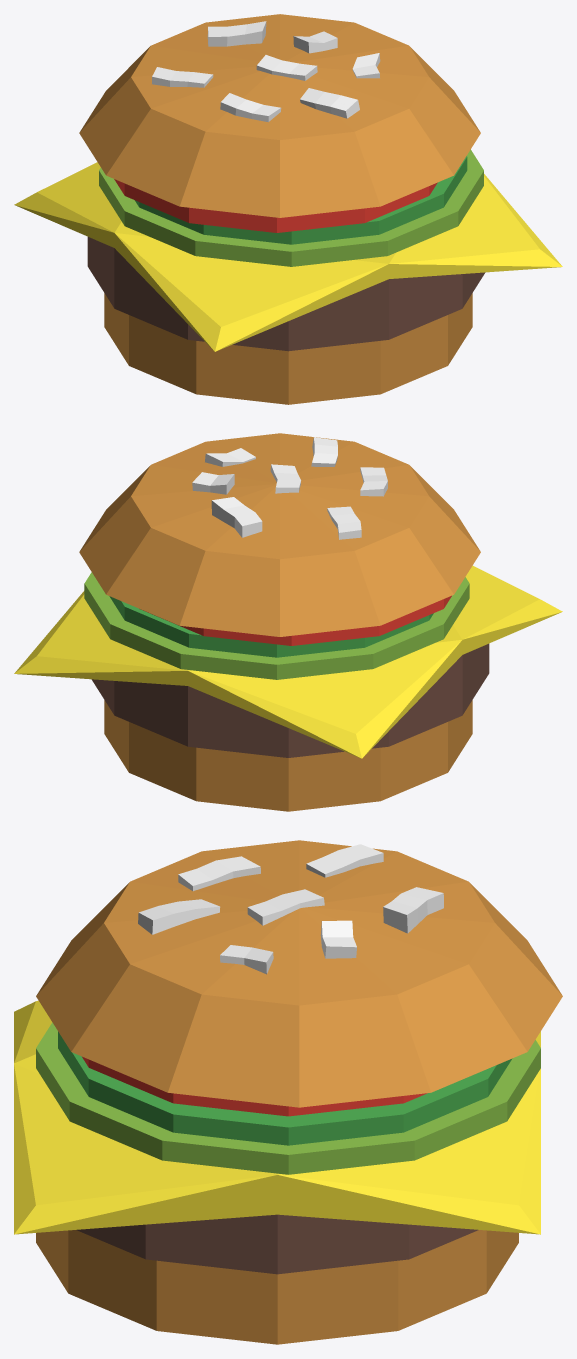
Rendered from burger.fbx.
3 renders of one model, top to bottom at view 1: azimuth 30°, elevation 25°; view 2: azimuth 150°, elevation 25°; view 3: azimuth 270°, elevation 25°, orthographic. The views are drawn at different scales.
Visible parts, largest first — view 1: mesh_395235009, mesh_1934040597, mesh_439053201, mesh_1150446713, mesh_649058693, mesh_968955735, mesh_868774226, group_2024586619, group_609489356, group_1346468297, group_1751401435, group_618733182 (+2 smaller); view 2: mesh_395235009, mesh_1934040597, mesh_439053201, mesh_1150446713, mesh_649058693, mesh_868774226, mesh_968955735, group_2024586619, group_1751401435, group_1604765366, group_1346468297, group_618733182 (+2 smaller); view 3: mesh_395235009, mesh_1934040597, mesh_439053201, mesh_649058693, mesh_1150446713, mesh_868774226, mesh_968955735, group_2024586619, group_609489356, group_1346468297, group_1751401435, group_618733182 (+2 smaller).
Part boxes in pixels (left/top/right/bottom): mesh_395235009: left=79, top=14, right=480, bottom=217; mesh_1934040597: left=14, top=162, right=562, bottom=351; mesh_439053201: left=104, top=293, right=472, bottom=404; mesh_1150446713: left=87, top=237, right=485, bottom=351; mesh_649058693: left=99, top=149, right=483, bottom=266; mesh_968955735: left=114, top=179, right=437, bottom=232; mesh_868774226: left=135, top=156, right=467, bottom=244; group_2024586619: left=207, top=21, right=266, bottom=46; group_609489356: left=300, top=88, right=359, bottom=118; group_1346468297: left=220, top=93, right=281, bottom=122; group_1751401435: left=152, top=67, right=213, bottom=87; group_618733182: left=256, top=55, right=317, bottom=80; mesh_395235009: left=79, top=433, right=480, bottom=636; mesh_1934040597: left=14, top=565, right=562, bottom=758; mesh_439053201: left=104, top=700, right=472, bottom=811; mesh_1150446713: left=91, top=643, right=489, bottom=757; mesh_649058693: left=84, top=572, right=469, bottom=679; mesh_868774226: left=109, top=596, right=433, bottom=657; mesh_968955735: left=140, top=595, right=451, bottom=645; group_2024586619: left=211, top=497, right=262, bottom=537; group_1751401435: left=327, top=506, right=361, bottom=539; group_1604765366: left=192, top=472, right=234, bottom=494; group_1346468297: left=360, top=467, right=387, bottom=496; group_618733182: left=270, top=464, right=301, bottom=493; mesh_395235009: left=36, top=840, right=562, bottom=1107; mesh_1934040597: left=14, top=1000, right=540, bottom=1234; mesh_439053201: left=36, top=1230, right=518, bottom=1344; mesh_649058693: left=36, top=1022, right=540, bottom=1174; mesh_1150446713: left=76, top=1214, right=478, bottom=1274; mesh_868774226: left=58, top=1031, right=512, bottom=1145; mesh_968955735: left=82, top=1056, right=427, bottom=1116; group_2024586619: left=383, top=887, right=443, bottom=933; group_609489356: left=138, top=899, right=220, bottom=934; group_1346468297: left=178, top=856, right=260, bottom=891; group_1751401435: left=306, top=844, right=383, bottom=877; group_618733182: left=247, top=889, right=324, bottom=925.
Bounding box in the file's own units: 24 × 17.35 × 25.
